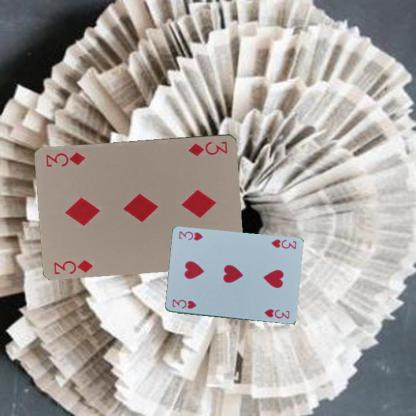3d: (186, 138, 229, 157), (51, 257, 94, 275)
3h: (169, 296, 198, 310), (269, 236, 297, 250)
